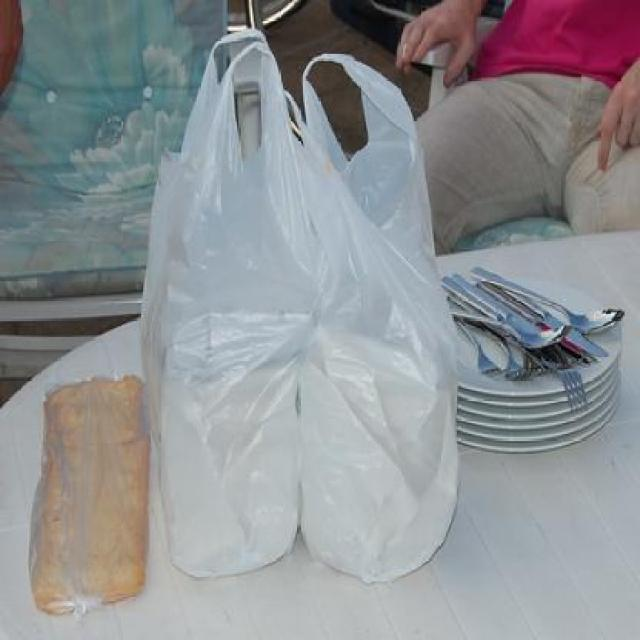plastic bag: (137, 25, 463, 583), (28, 363, 148, 622)
